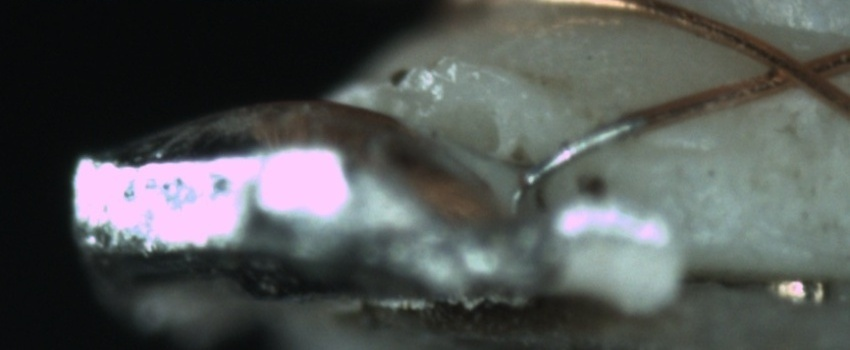CL: (745, 37, 845, 101)
TS: (525, 119, 647, 183)
